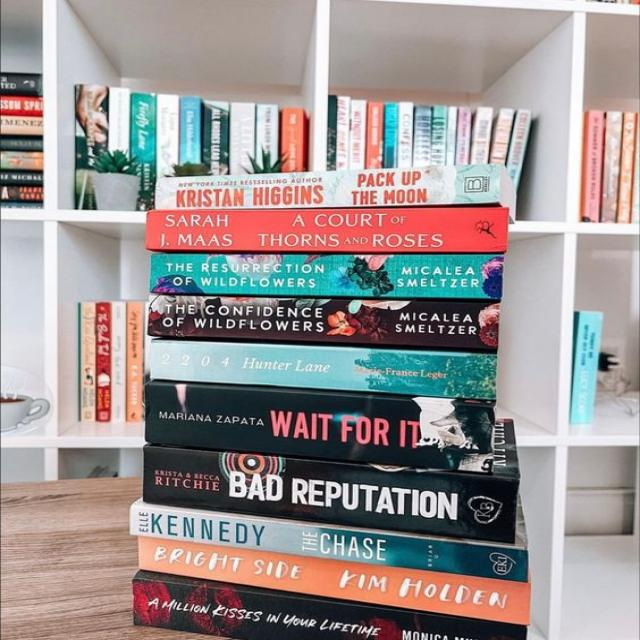book: (143, 446, 515, 542), (137, 536, 529, 623), (145, 380, 498, 473), (130, 501, 527, 580), (133, 570, 525, 639), (146, 338, 496, 397), (148, 294, 498, 350), (157, 165, 514, 219), (145, 206, 508, 255), (150, 253, 503, 300)
